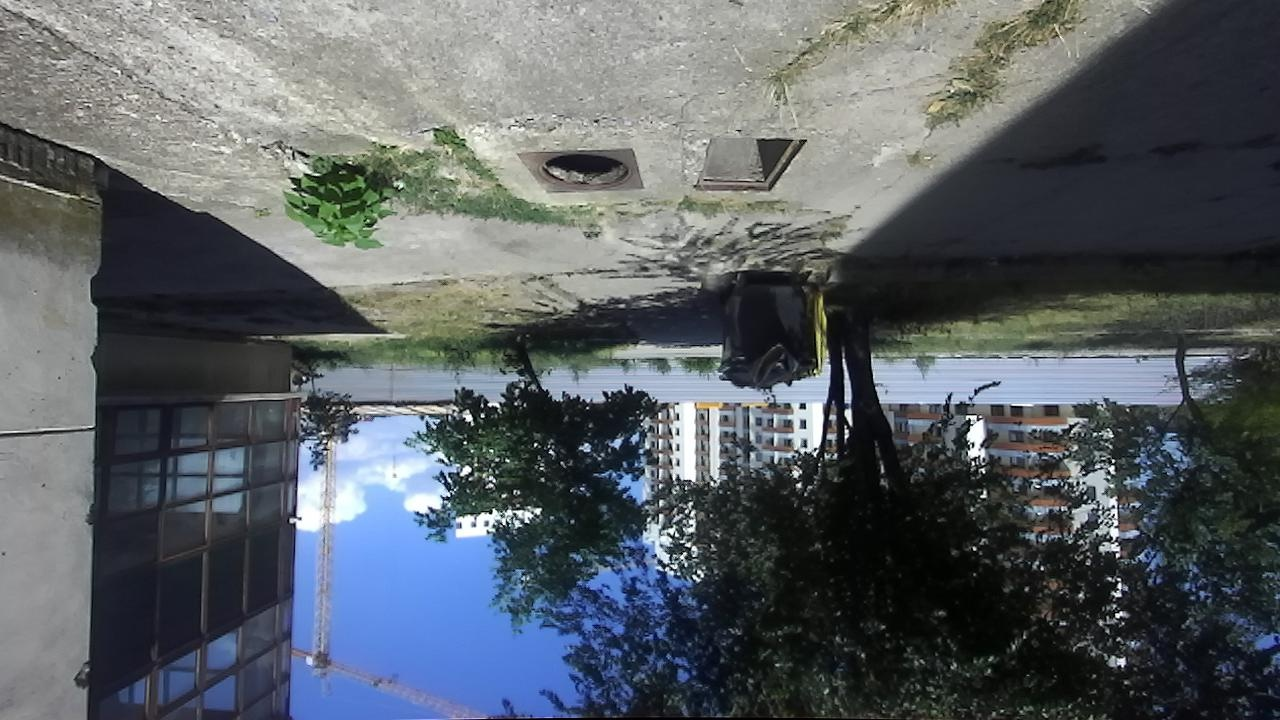drain: (690, 134, 807, 196), (535, 150, 635, 192)
